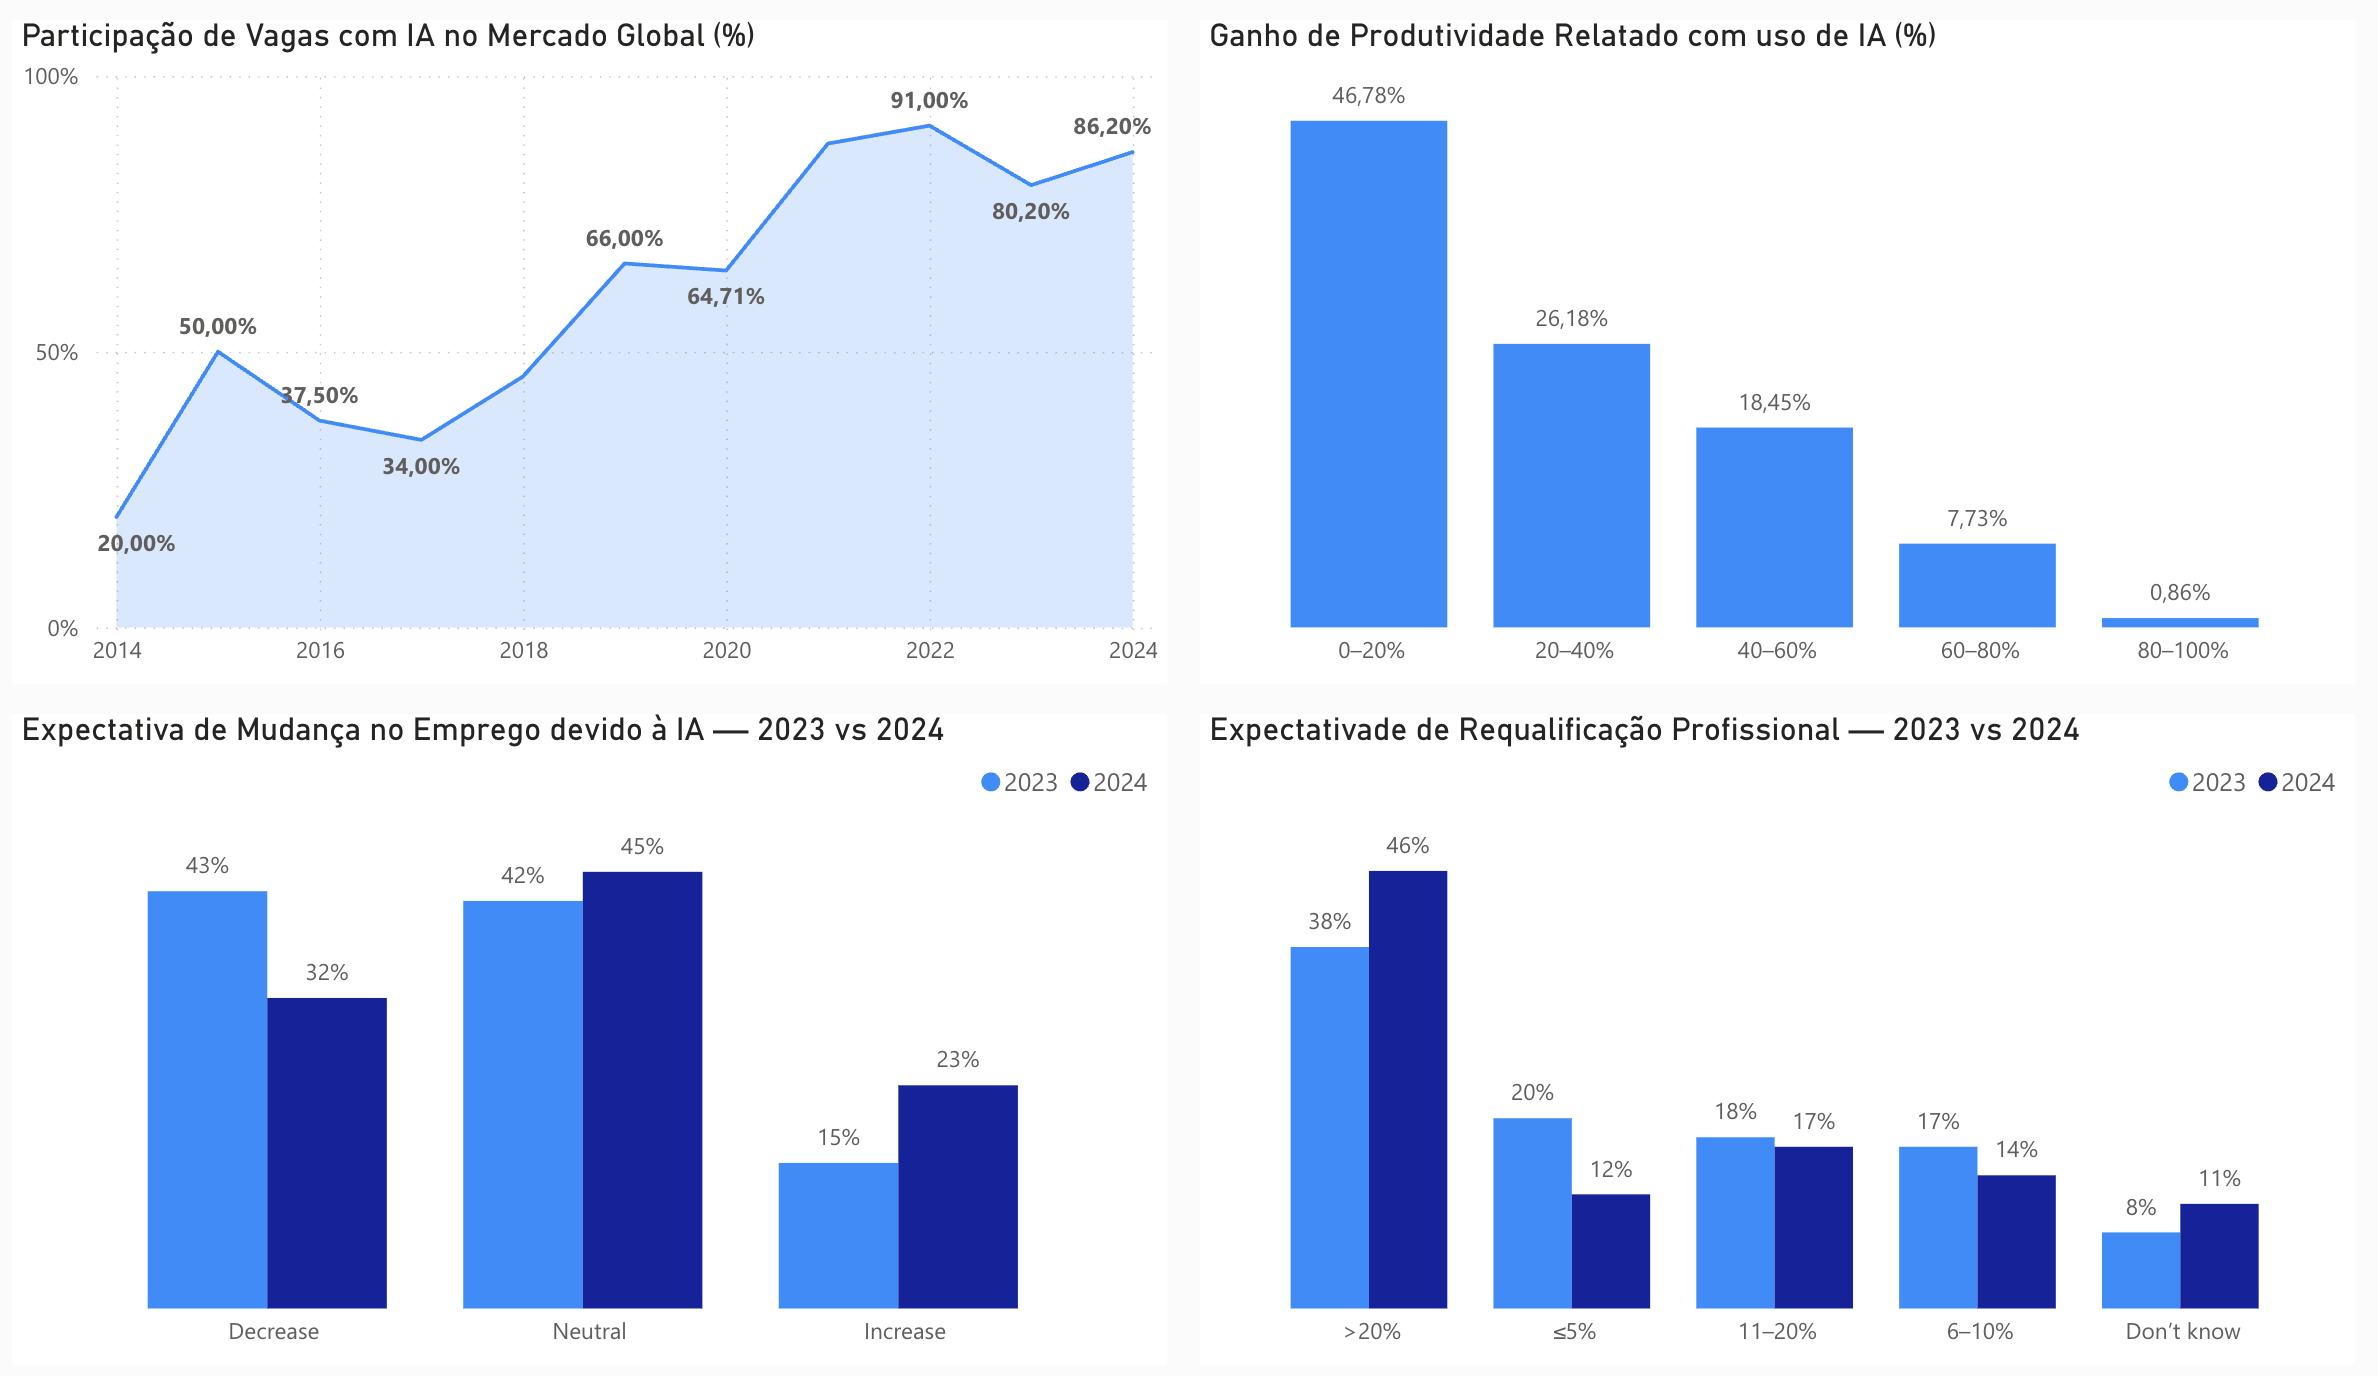

What the dashboard file says about the page in this screenshot:
{"tool":"powerbi","page":{"name":"Stanford AI Index","canvas":[1280,720],"ordinal":3},"visuals":[{"type":"columnChart","title":"Ganho de Produtividade Relatado com uso de IA (%)","fields":{"Category":["stanford_productivity.productivity_range"],"Y":["Sum(stanford_productivity.formated_respondentes)"]},"box":[648.9,10.4,608.3,349.9],"z":1002},{"type":"areaChart","title":"Participação de Vagas com IA no Mercado Global (%)","fields":{"Y":["Sum(stanford_ai_job_posting.ai_job_posting_global)"],"Category":["stanford_ai_job_posting.Date.Variation.Date Hierarchy.Year","stanford_ai_job_posting.Date.Variation.Date Hierarchy.Quarter","stanford_ai_job_posting.Date.Variation.Date Hierarchy.Month","stanford_ai_job_posting.Date.Variation.Date Hierarchy.Day"]},"box":[23.2,10.4,608.3,349.9],"z":1003},{"type":"clusteredColumnChart","title":"Expectativa de Mudança no Emprego devido à IA — 2023 vs 2024","fields":{"Y":["Sum(stanford_employee_change.2023_formated)","Sum(stanford_employee_change.2024_formated)"],"Category":["stanford_employee_change.category"]},"box":[23.2,376.6,608.3,343],"z":1004},{"type":"clusteredColumnChart","title":"Expectativade de Requalificação Profissional — 2023 vs 2024","fields":{"Category":["stanford_reskilled.response"],"Y":["Sum(stanford_reskilled.2023_formated)","Sum(stanford_reskilled.2024_formated)"]},"box":[648.9,376.6,608.3,343],"z":1005}]}

Visuals, with their boxes in screenshot pixels (x1, y1, x2, y2), scaled from the page's 1280x720 canvas onto the 2378x1376 screenshot:
"Ganho de Produtividade Relatado com uso de IA (%)" columnChart: bbox(1206, 20, 2336, 689)
"Participação de Vagas com IA no Mercado Global (%)" areaChart: bbox(43, 20, 1173, 689)
"Expectativa de Mudança no Emprego devido à IA — 2023 vs 2024" clusteredColumnChart: bbox(43, 720, 1173, 1375)
"Expectativade de Requalificação Profissional — 2023 vs 2024" clusteredColumnChart: bbox(1206, 720, 2336, 1375)
